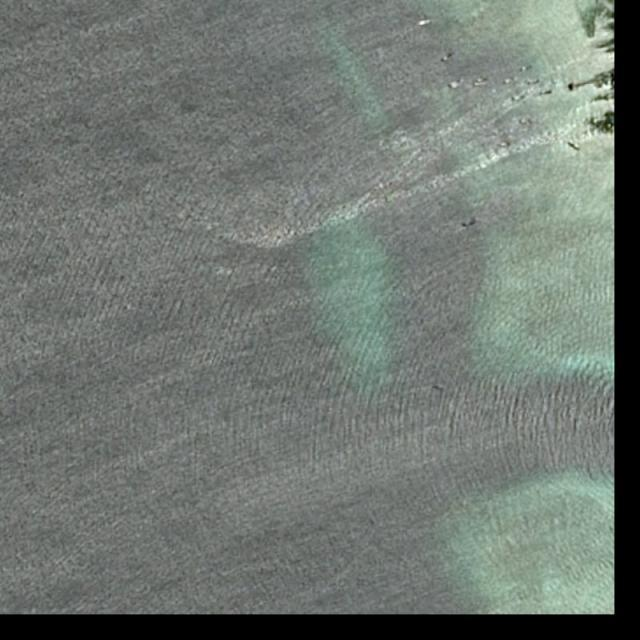ship: (461, 215, 478, 229), (448, 77, 464, 90), (442, 51, 456, 63), (526, 76, 542, 86), (568, 140, 580, 153), (504, 76, 519, 84), (474, 80, 489, 87), (418, 18, 431, 26), (521, 65, 532, 73), (497, 141, 510, 147)
